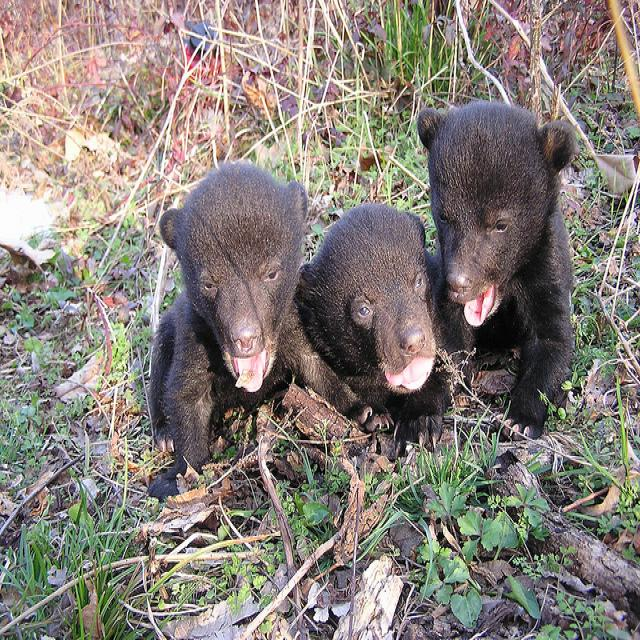Bear: (414, 79, 593, 419), (132, 171, 318, 446), (295, 186, 452, 444)
